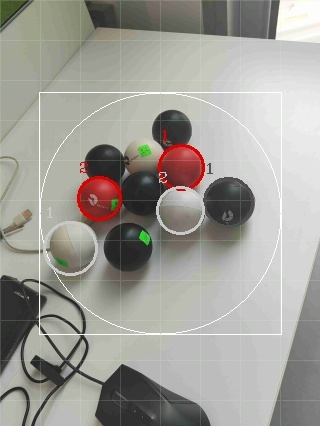Pelota blanca: (42, 220, 97, 278), (201, 174, 257, 227), (153, 185, 206, 238), (121, 137, 163, 174), (0, 385, 30, 425)
Pelota negra: (95, 363, 211, 425), (201, 174, 257, 227), (103, 222, 153, 272), (119, 169, 161, 216), (79, 142, 123, 182), (151, 108, 193, 147)
Pelota roja: (156, 142, 206, 190), (76, 174, 123, 222)
